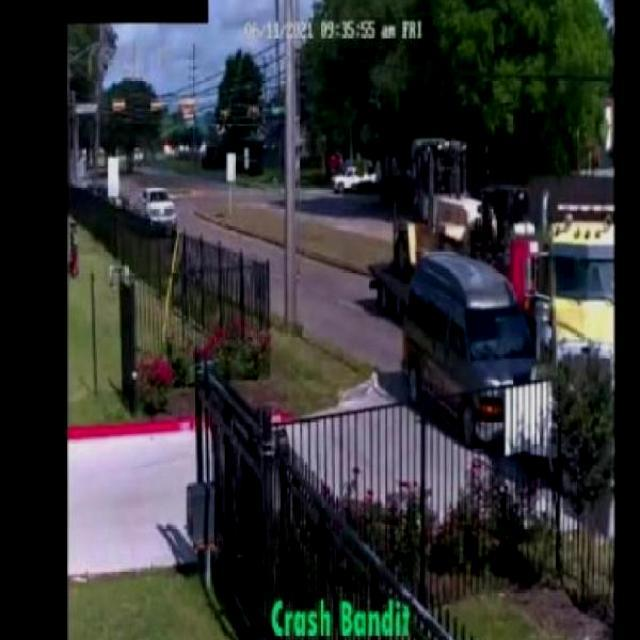accident: (400, 240, 625, 446)
